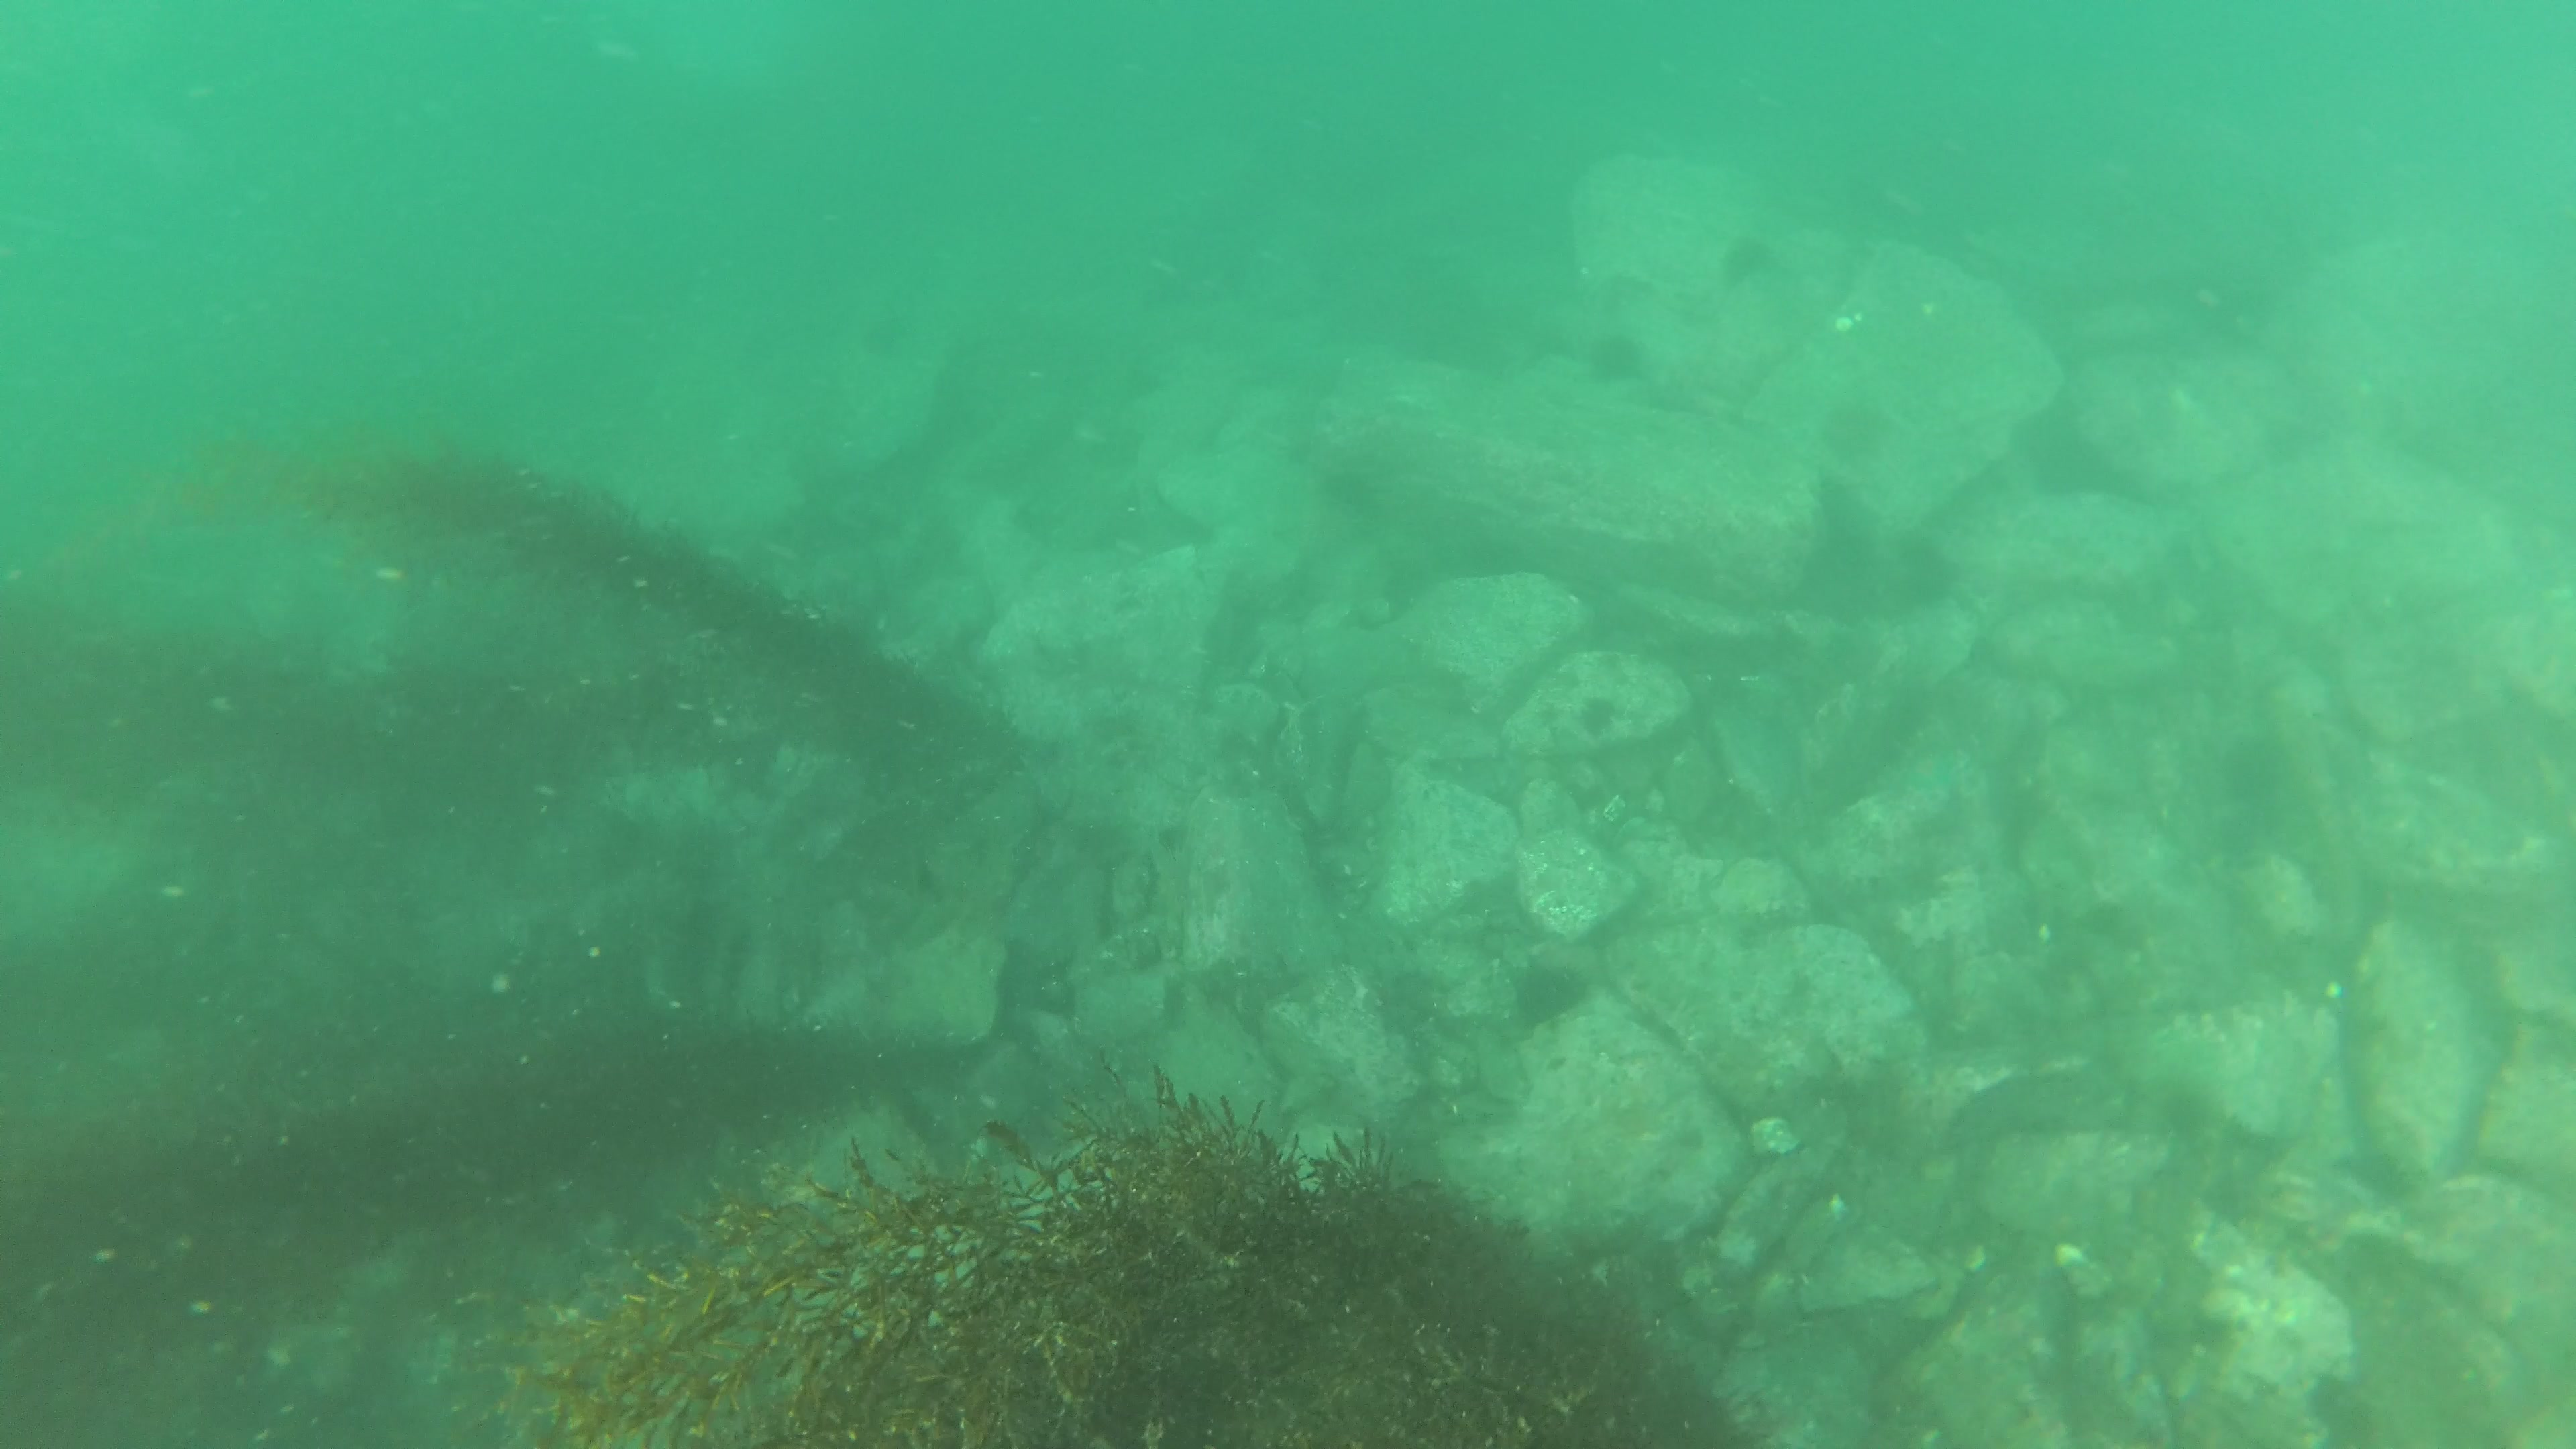echinus: (1509, 957, 1589, 1028), (1824, 391, 1893, 455), (1575, 338, 1652, 393), (1596, 262, 1652, 318), (1721, 228, 1769, 287)
